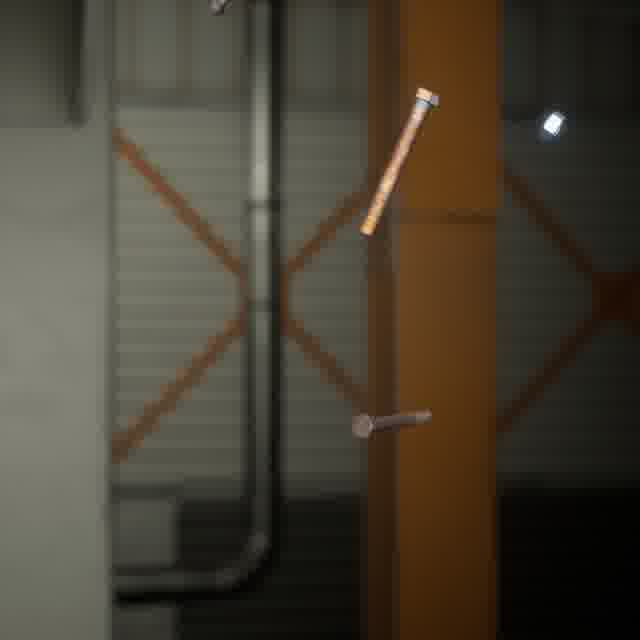bolt: (354, 82, 444, 240), (346, 406, 435, 443)
nut: (533, 106, 570, 147)
